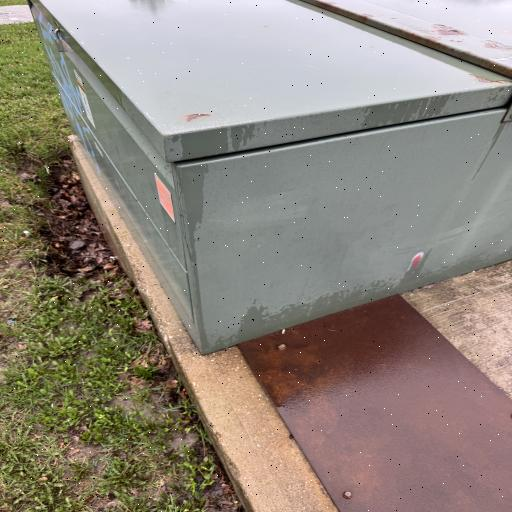Electrical Box: (29, 3, 511, 354)
